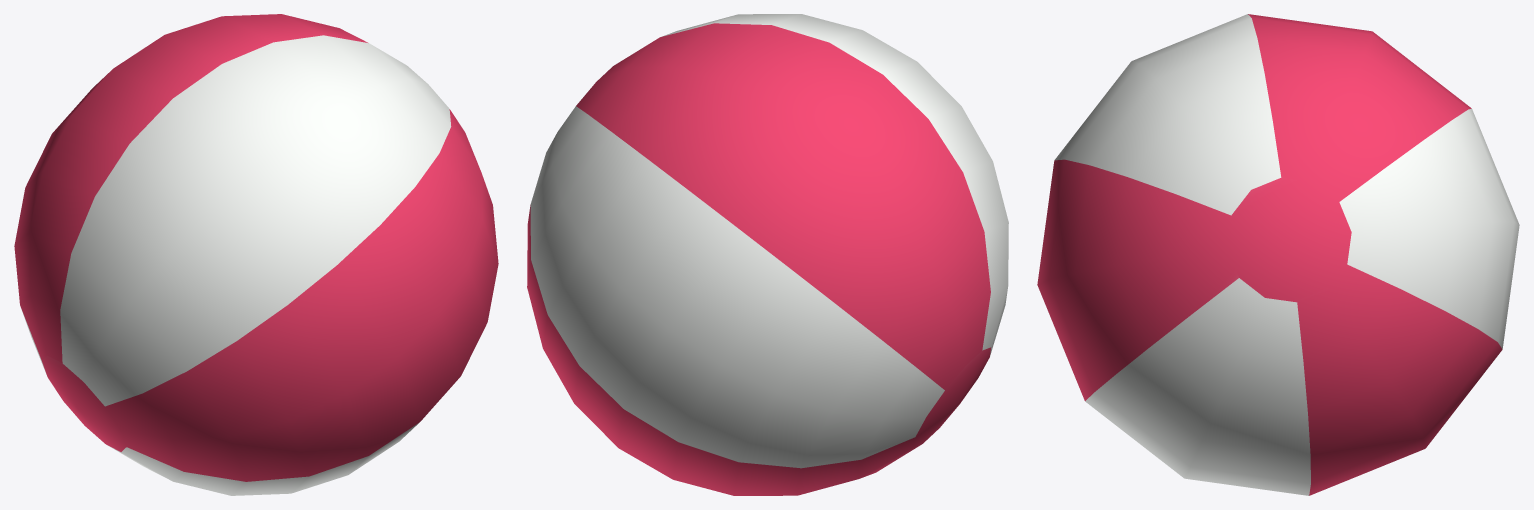
The model's file is BALL2.fbx.
3 views of the same model, side by side, from view 1: azimuth 30°, elevation 25°; view 2: azimuth 150°, elevation 25°; view 3: azimuth 270°, elevation 25° (orthographic).
Visible parts, largest first — view 1: ball unwrap; view 2: ball unwrap; view 3: ball unwrap.
Boxes of the visible parts, x1=… form: ball unwrap: x1=14, y1=14, x2=498, y2=495; ball unwrap: x1=527, y1=14, x2=1008, y2=495; ball unwrap: x1=1037, y1=14, x2=1519, y2=495.
Bounding box in the file's own units: 199 × 199 × 198.
Materials: 1 (1 with a texture image).
